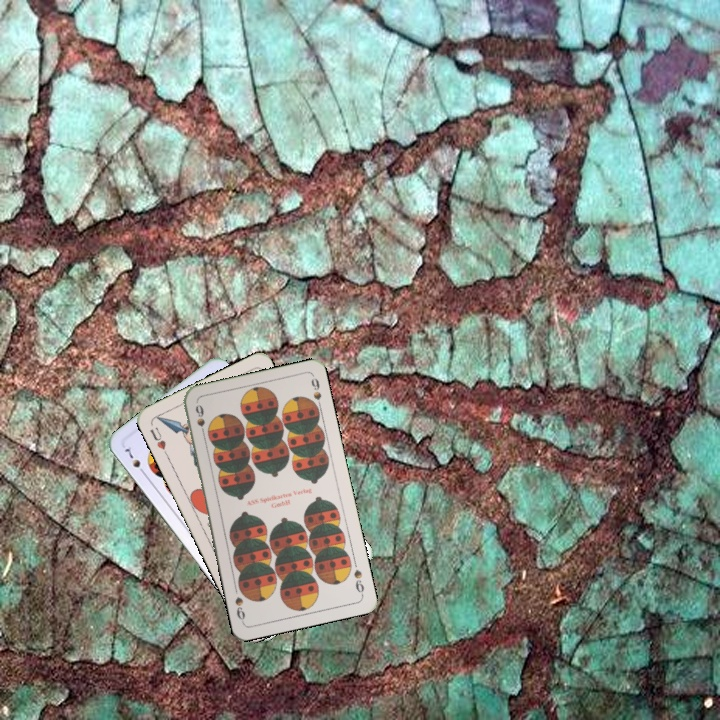HU: (146, 423, 170, 458)
S7: (121, 442, 148, 478)
S9: (191, 400, 208, 440), (350, 565, 367, 598)
